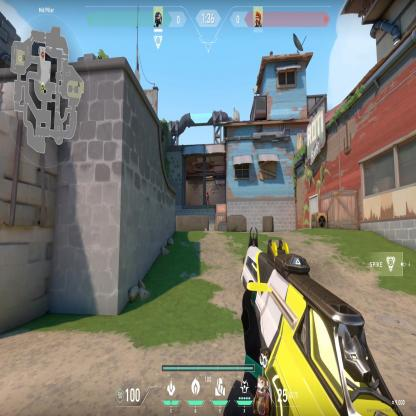enemy: (206, 188, 210, 205)
